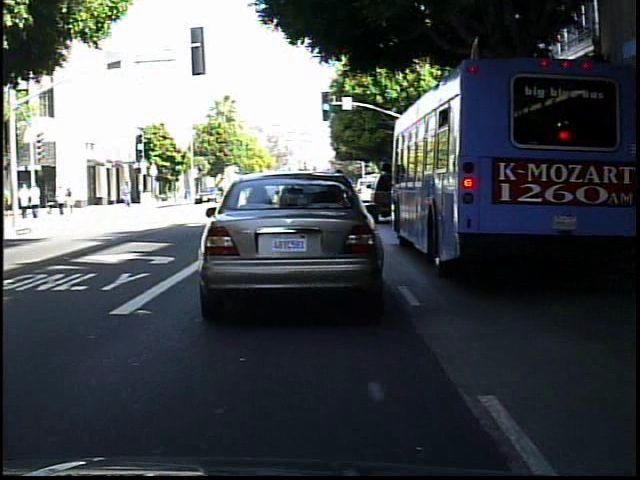person: (16, 180, 32, 219), (30, 180, 45, 221), (64, 178, 80, 216), (120, 176, 137, 210), (55, 177, 69, 215), (45, 182, 59, 218)
